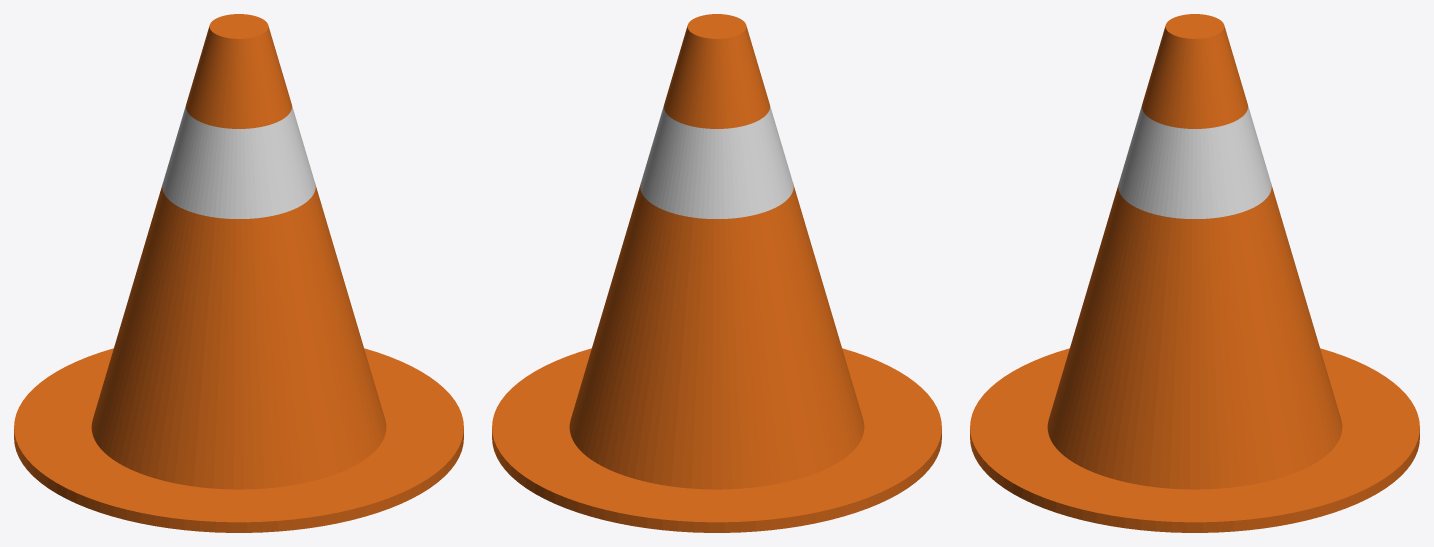
The model's file is Traffic cone.fbx.
3 renders of one model, left to right at view 1: azimuth 30°, elevation 25°; view 2: azimuth 150°, elevation 25°; view 3: azimuth 270°, elevation 25°, orthographic.
Parts seen in each view (by area): view 1: Cone; view 2: Cone; view 3: Cone.
Boxes of the visible parts, left/top/right/bottom form: Cone: left=14, top=14, right=463, bottom=532; Cone: left=492, top=14, right=941, bottom=532; Cone: left=970, top=14, right=1419, bottom=532.
Size of the model in its own units: 305 by 308 by 305.
